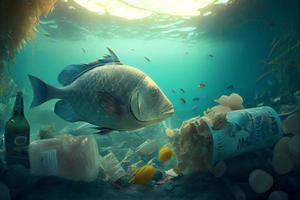Plastic: (27, 59, 178, 135), (178, 99, 284, 171), (26, 132, 106, 181)
